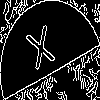X: (25, 24, 59, 80)
